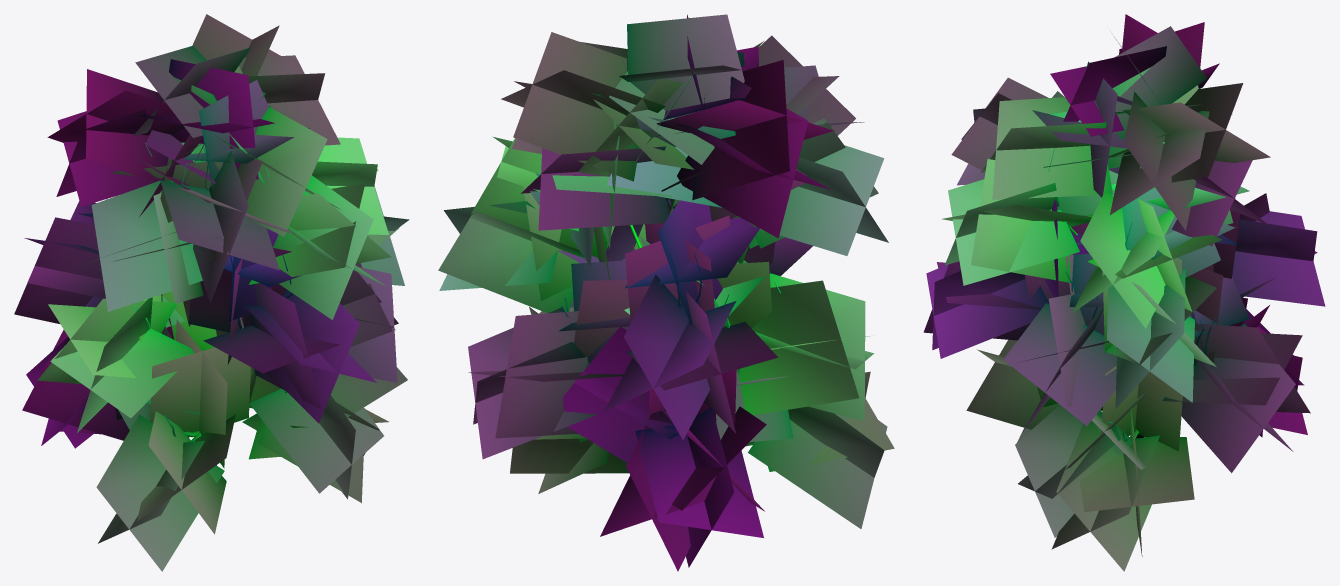
Rendered from M_P1_Tree_13.fbx.
3 renders of one model, left to right at view 1: azimuth 30°, elevation 25°; view 2: azimuth 150°, elevation 25°; view 3: azimuth 270°, elevation 25°, orthographic. The views are drawn at different scales.
Parts seen in each view (by area): view 1: M_Tree_1_13; view 2: M_Tree_1_13; view 3: M_Tree_1_13.
Part boxes in pixels (box(x1,y1,x2,y2)): M_Tree_1_13: box(14, 14, 409, 571); M_Tree_1_13: box(438, 14, 894, 571); M_Tree_1_13: box(923, 14, 1325, 571).
Size of the model in its own units: 1020 by 1260 by 981.
